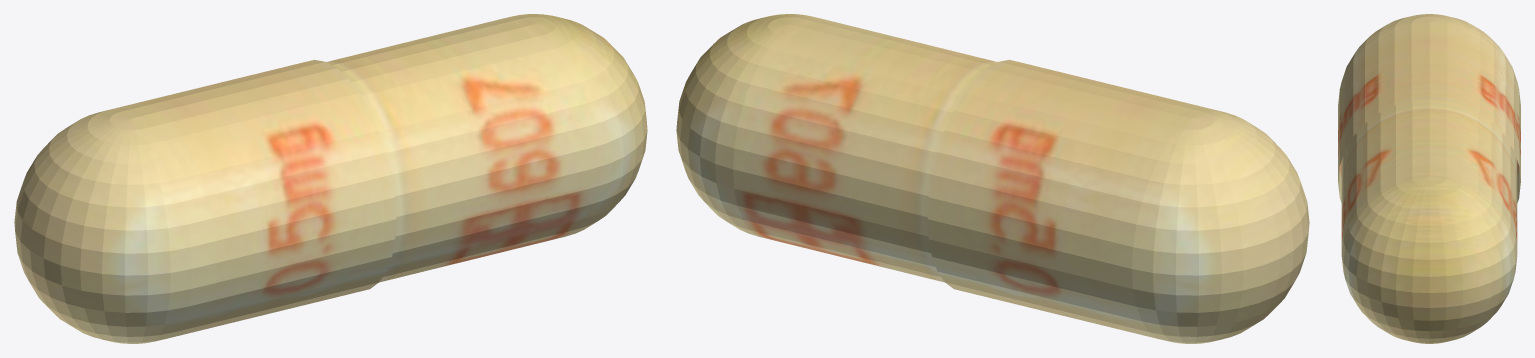
3 renders of one model, left to right at view 1: azimuth 30°, elevation 25°; view 2: azimuth 150°, elevation 25°; view 3: azimuth 270°, elevation 25°, orthographic. The views are drawn at different scales.
Visible parts, largest first — view 1: 球體; view 2: 球體; view 3: 球體.
Boxes of the visible parts, x1,y1,x2,y2 form: 球體: (14, 14, 647, 343); 球體: (676, 14, 1309, 343); 球體: (1338, 14, 1520, 343).
Bounding box in the file's own units: 2.93 × 1 × 1.
